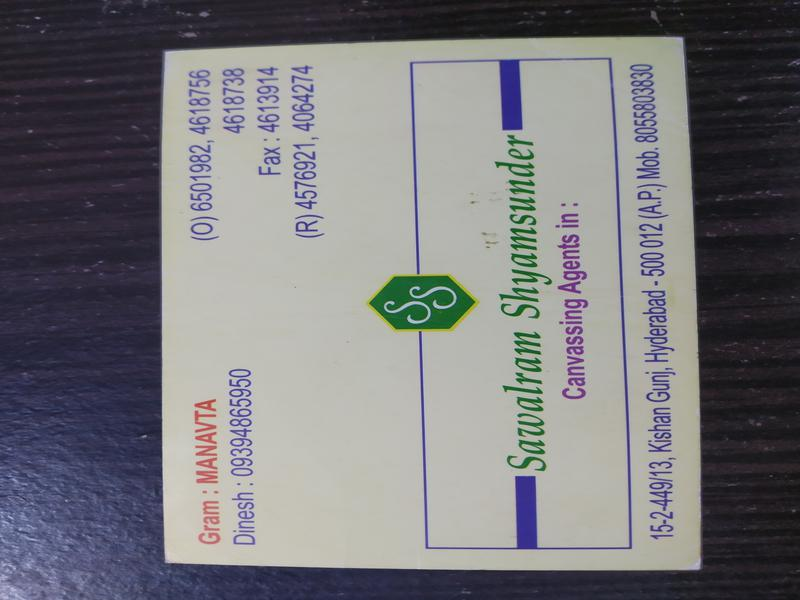card: (160, 37, 700, 571)
